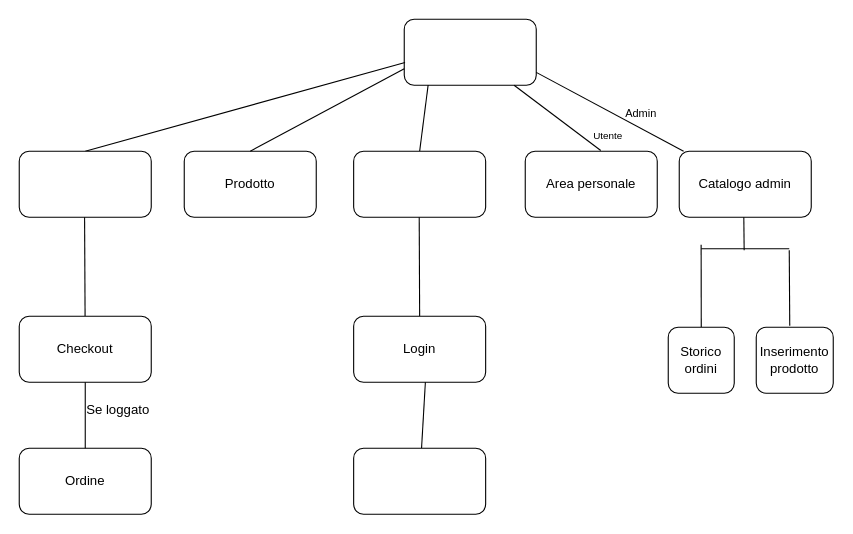
Some shapes in this 853 by 534 pixel diagram are drawn without their labels. The box of each missing label's shape, as (x1, y1, x2, y2) in pixels:
Carrello: (18, 150, 151, 217)
Index: (403, 18, 536, 85)
Registrazione: (353, 150, 486, 217)
Storico ordini utente: (353, 447, 486, 514)
